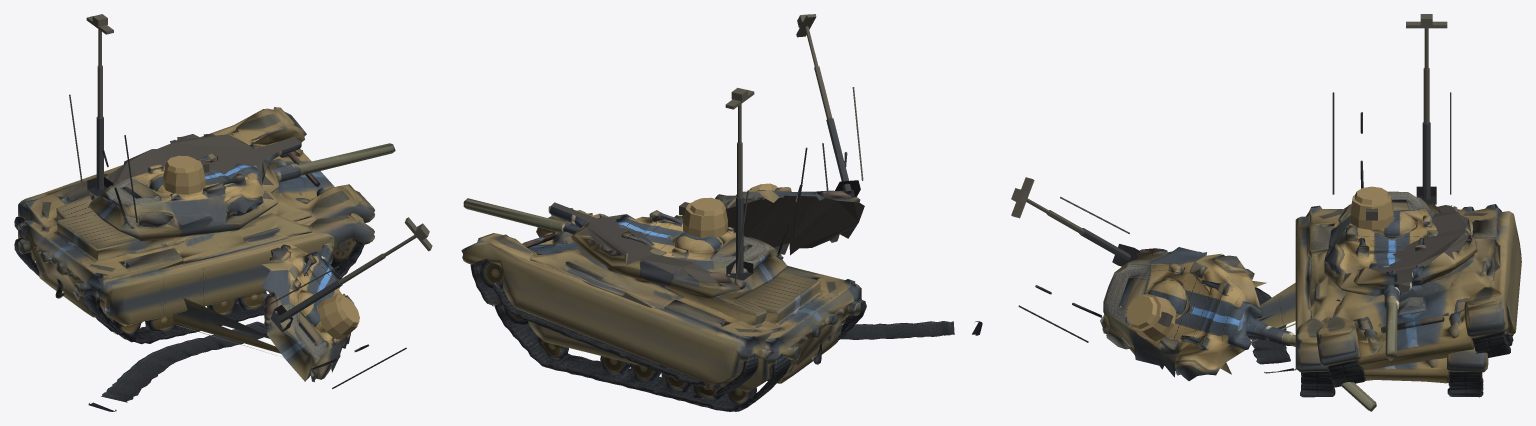
Rendered from officer_armour.glb.
3 renders of one model, left to right at view 1: azimuth 30°, elevation 25°; view 2: azimuth 150°, elevation 25°; view 3: azimuth 270°, elevation 25°, orthographic. The views are drawn at different scales.
Visible parts, largest first — view 1: hull_hull, WRECK_hull_hull, turret_hull, WRECK_turret_hull, turret_metal, WRECK_hull_rubber, WRECK_turret_metal, hull_rubber; view 2: WRECK_hull_hull, hull_hull, turret_hull, WRECK_turret_hull, hull_rubber, WRECK_hull_rubber, turret_metal, WRECK_turret_metal; view 3: WRECK_hull_hull, WRECK_turret_hull, hull_hull, turret_hull, turret_metal, WRECK_turret_metal, WRECK_hull_rubber, hull_rubber.
Part boxes in pixels (box(x1,y1,x2,y2)): hull_hull: box(14, 169, 374, 333); WRECK_hull_hull: box(14, 107, 374, 357); turret_hull: box(89, 153, 271, 229); WRECK_turret_hull: box(261, 242, 359, 382); turret_metal: box(69, 14, 395, 222); WRECK_hull_rubber: box(88, 321, 267, 411); WRECK_turret_metal: box(264, 217, 432, 388); hull_rubber: box(34, 272, 342, 344); WRECK_hull_hull: box(461, 202, 832, 395); hull_hull: box(488, 213, 866, 400); turret_hull: box(613, 197, 786, 289); WRECK_turret_hull: box(715, 183, 864, 255); hull_rubber: box(518, 333, 846, 411); WRECK_hull_rubber: box(491, 282, 982, 386); turret_metal: box(463, 87, 807, 283); WRECK_turret_metal: box(796, 14, 863, 196); WRECK_hull_hull: box(1252, 204, 1521, 387); WRECK_turret_hull: box(1100, 247, 1266, 380); hull_hull: box(1295, 204, 1488, 388); turret_hull: box(1324, 186, 1440, 277); turret_metal: box(1332, 14, 1451, 360); WRECK_turret_metal: box(1011, 177, 1376, 411); WRECK_hull_rubber: box(1199, 251, 1513, 373); hull_rubber: box(1300, 372, 1483, 397).
Size of the model in its own units: 8.58 by 5.96 by 9.05.
1 material, 1 textured.
